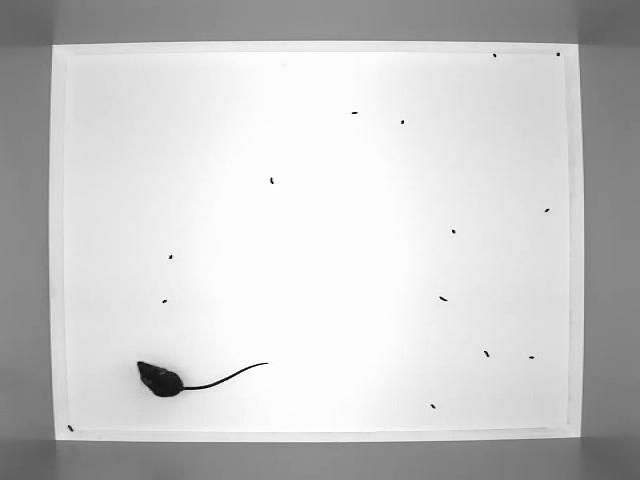Tikus: (135, 358, 268, 398)
